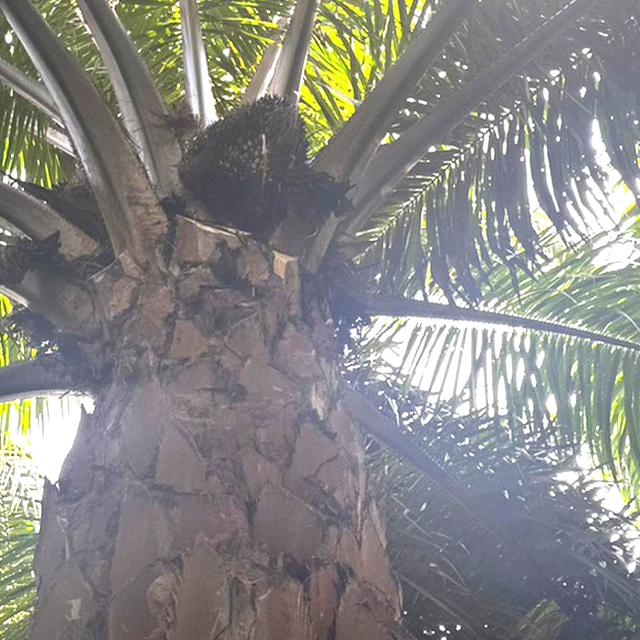unripe: (171, 87, 321, 245)
